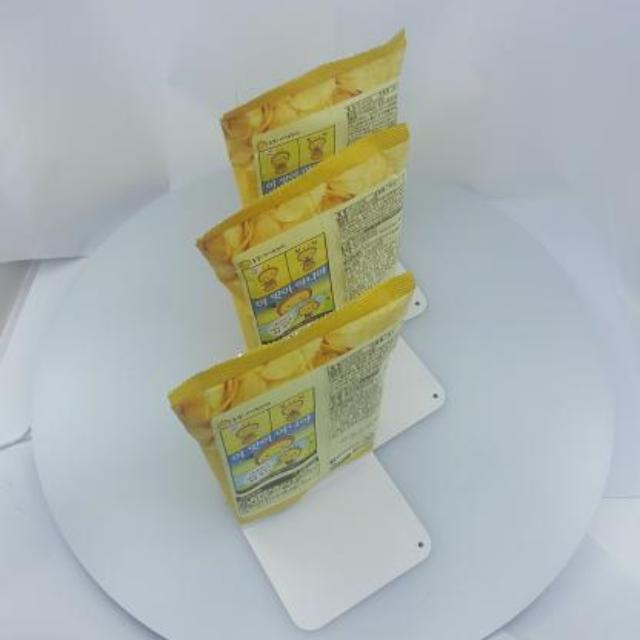snack_bag: (164, 18, 450, 544)
